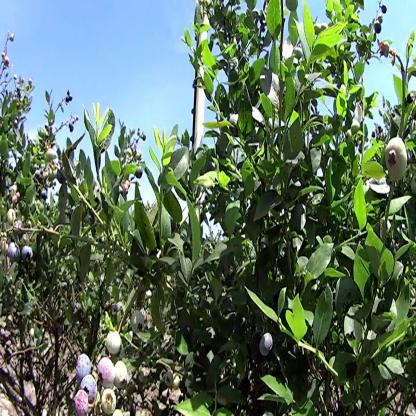intermediate: (97, 355, 115, 388), (72, 390, 92, 416)
mature: (75, 353, 92, 385), (82, 375, 100, 405), (259, 332, 275, 358), (21, 243, 35, 270), (11, 241, 21, 266)
young: (385, 134, 409, 182), (102, 388, 125, 416), (104, 329, 124, 358), (114, 359, 129, 392), (133, 311, 146, 337), (8, 210, 17, 225)
